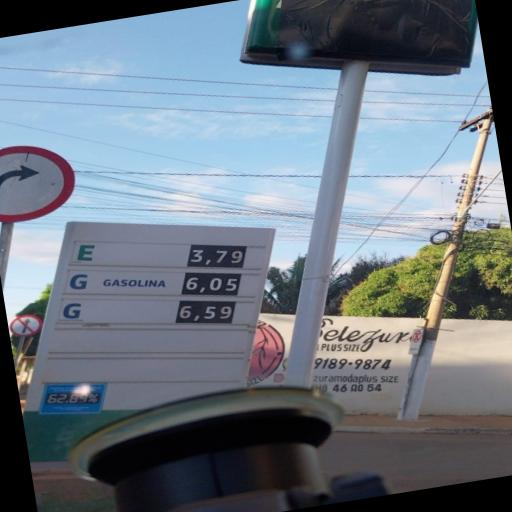ETANOL: (72, 241, 149, 266)
GASOLINA AD: (58, 298, 152, 321)
GASOLINA C: (66, 270, 177, 292)
placa: (51, 234, 265, 330)
preco: (186, 243, 249, 267), (174, 300, 235, 323), (181, 272, 242, 293)
